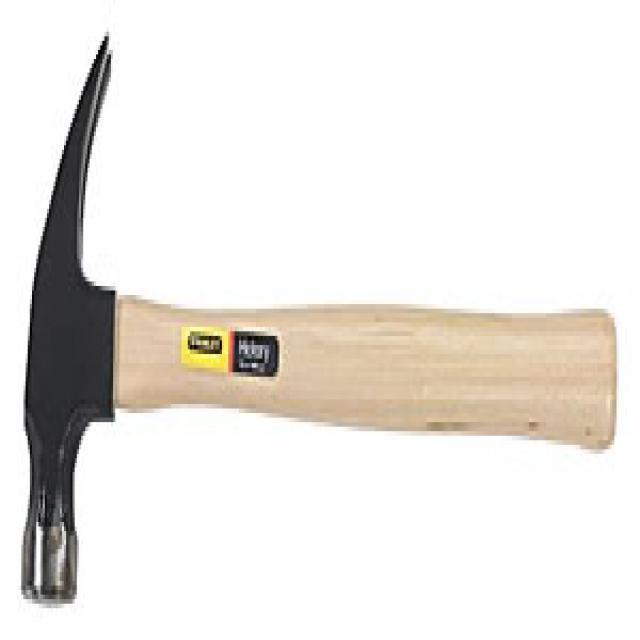hammer: (12, 25, 624, 617)
